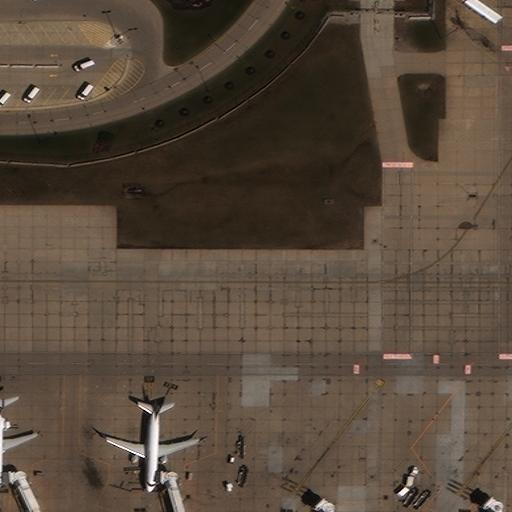Medium Civil Transport: (106, 396, 198, 492), (0, 397, 37, 487)
